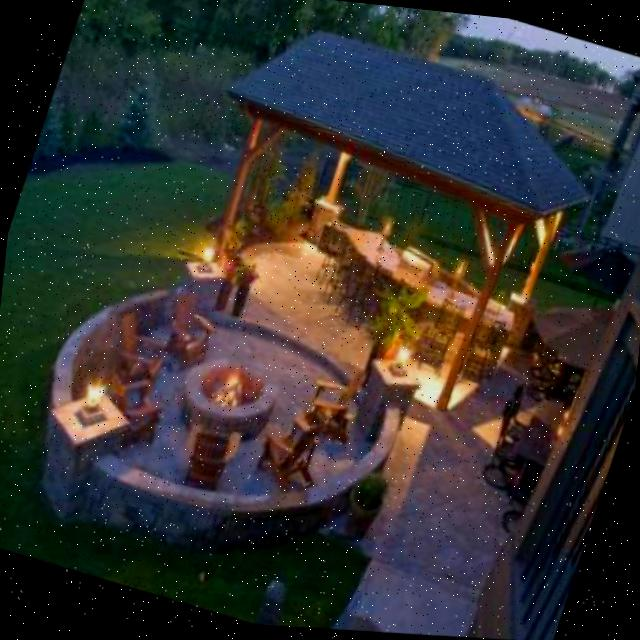fire: (197, 359, 255, 425)
